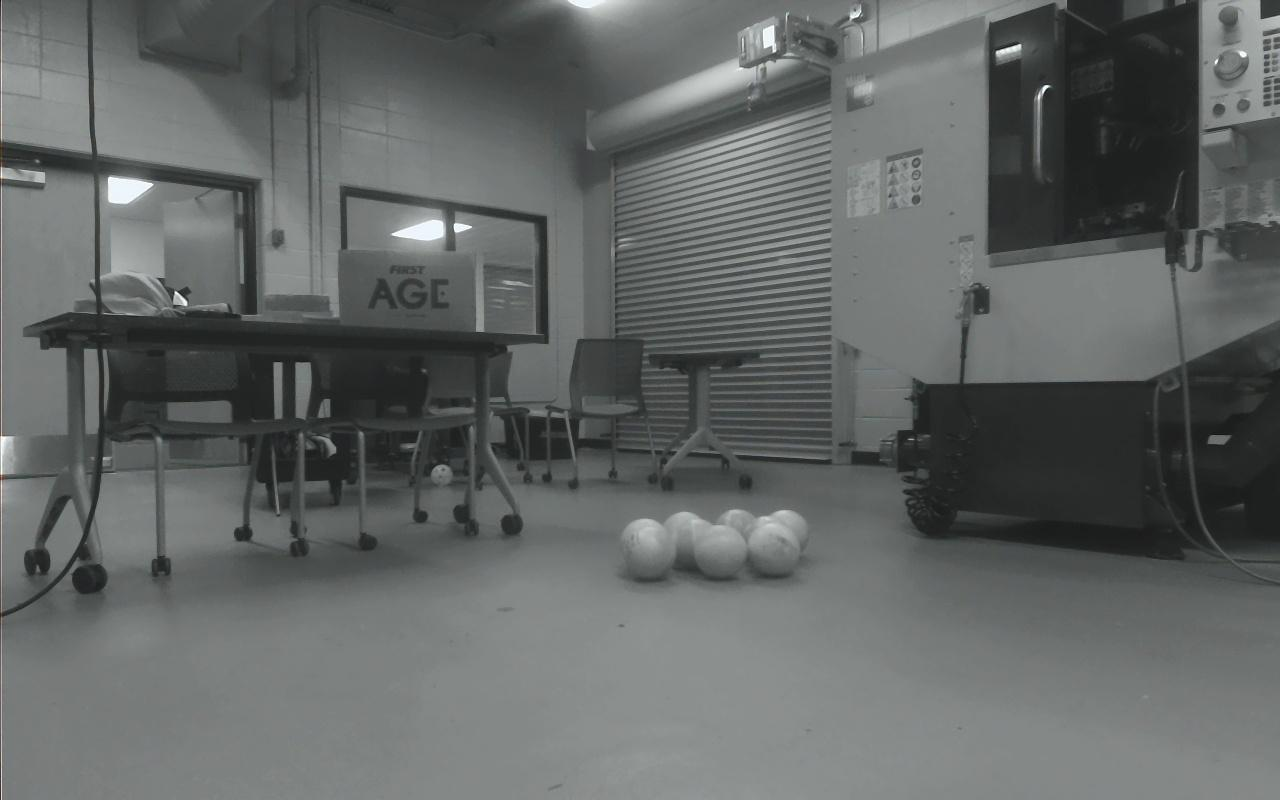Fuel: (692, 523, 748, 580), (623, 523, 677, 580), (748, 522, 801, 578), (668, 517, 714, 572), (618, 518, 666, 569), (742, 515, 788, 568), (714, 509, 756, 562), (662, 511, 704, 563), (767, 509, 809, 558)
